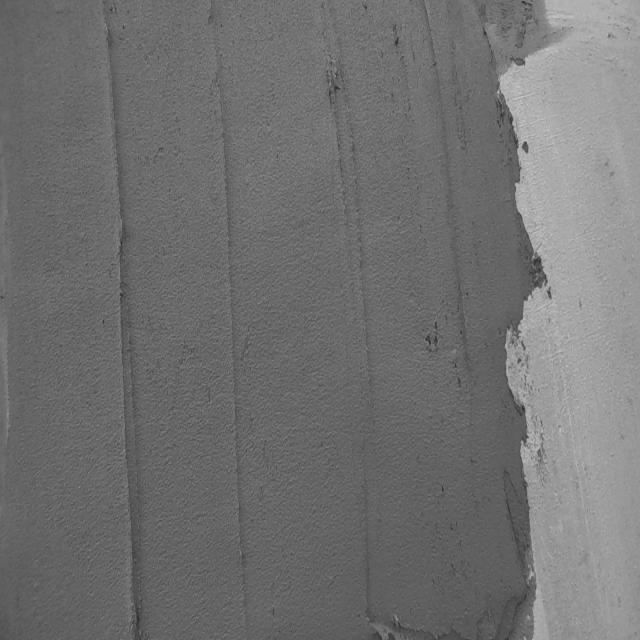trowels marks: (76, 2, 160, 640), (322, 17, 384, 640), (205, 14, 262, 640), (419, 0, 481, 383)
